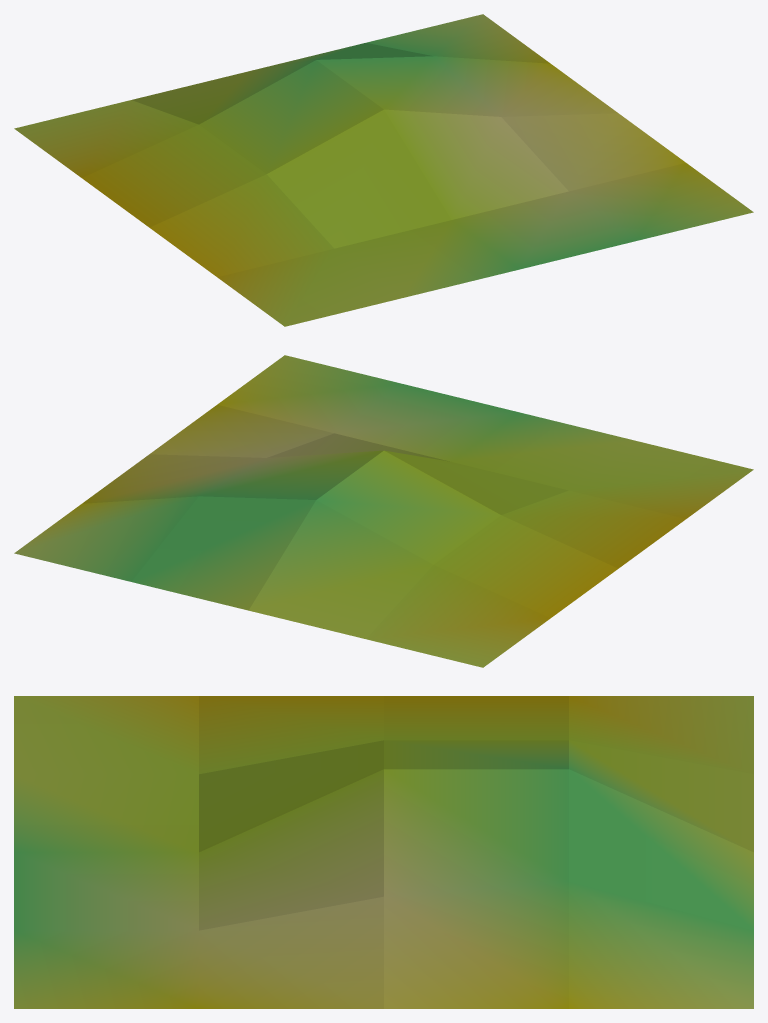
File: tile_5.fbx
3 views of the same model, one above another, from view 1: azimuth 30°, elevation 25°; view 2: azimuth 150°, elevation 25°; view 3: azimuth 270°, elevation 25° (orthographic). The views are drawn at different scales.
Parts seen in each view (by area): view 1: Cube.467; view 2: Cube.467; view 3: Cube.467.
Boxes of the visible parts, left/top/right/bottom form: Cube.467: left=14, top=14, right=753, bottom=326; Cube.467: left=14, top=355, right=753, bottom=667; Cube.467: left=14, top=696, right=753, bottom=1008.
Bounding box in the file's own units: 400 × 49.65 × 400.
